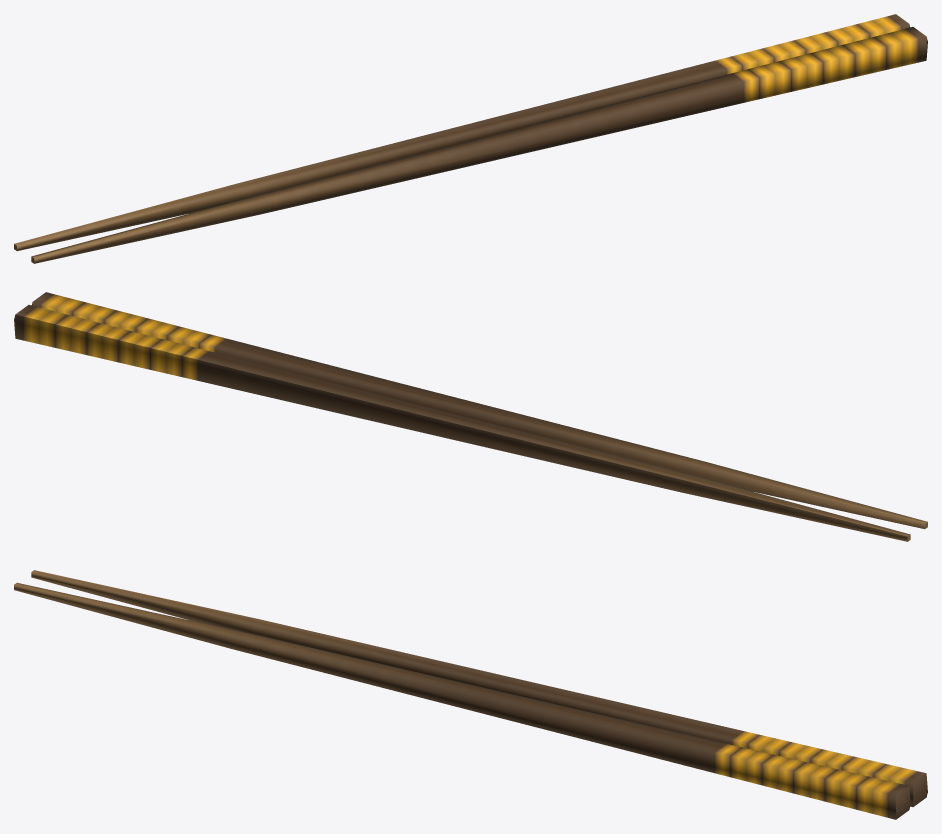
File: KR_Chopsticks_01_03.fbx
3 renders of one model, top to bottom at view 1: azimuth 30°, elevation 25°; view 2: azimuth 150°, elevation 25°; view 3: azimuth 330°, elevation 25°, orthographic.
Visible parts, largest first — view 1: chopsticks_02, chopsticks_01; view 2: chopsticks_01, chopsticks_02; view 3: chopsticks_02, chopsticks_01.
Part boxes in pixels (<box>): chopsticks_02: <box>31,27,927,263</box>; chopsticks_01: <box>14,14,910,250</box>; chopsticks_01: <box>14,305,910,541</box>; chopsticks_02: <box>31,292,927,528</box>; chopsticks_02: <box>14,583,910,819</box>; chopsticks_01: <box>31,570,927,806</box>.
Size of the model in its own units: 23.21 by 0.6 by 1.37.
